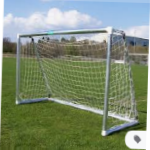goals: (12, 26, 141, 134)
